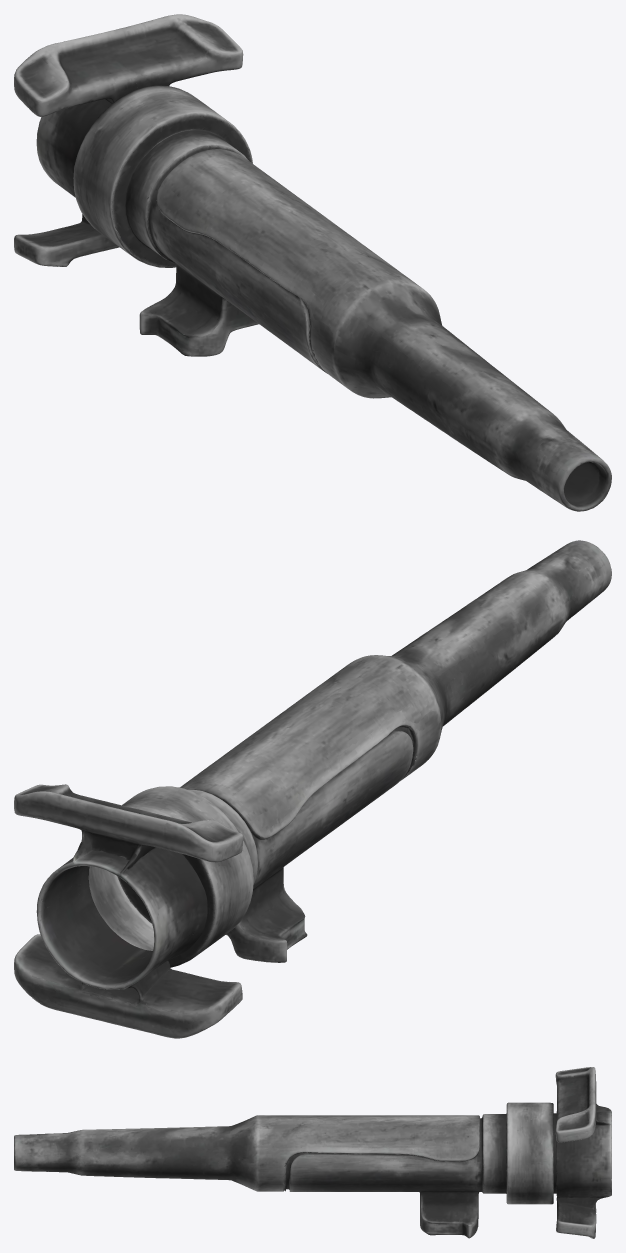
File: bolt.glb
The picture shows the model from 3 angles, top to bottom: view 1: azimuth 30°, elevation 25°; view 2: azimuth 150°, elevation 25°; view 3: azimuth 270°, elevation 25°; orthographic projection. The views are drawn at different scales.
Visible parts, largest first — view 1: geometry_0; view 2: geometry_0; view 3: geometry_0.
Part boxes in pixels (bbox=[...]): geometry_0: bbox=[14, 14, 611, 511]; geometry_0: bbox=[14, 540, 611, 1038]; geometry_0: bbox=[14, 1067, 611, 1238].
Bounding box in the file's own units: 0.2455 × 0.2436 × 1.
Materials: 1 (1 with a texture image).
